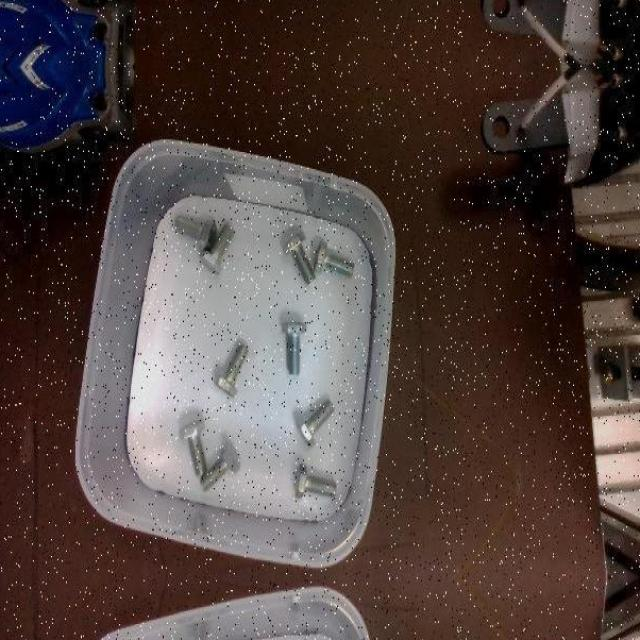screw: (200, 441, 240, 492), (295, 399, 335, 447), (199, 222, 235, 275), (214, 343, 248, 399), (283, 230, 317, 285), (179, 420, 207, 477), (315, 239, 355, 278), (175, 214, 218, 249), (294, 464, 337, 499), (282, 321, 307, 374)
